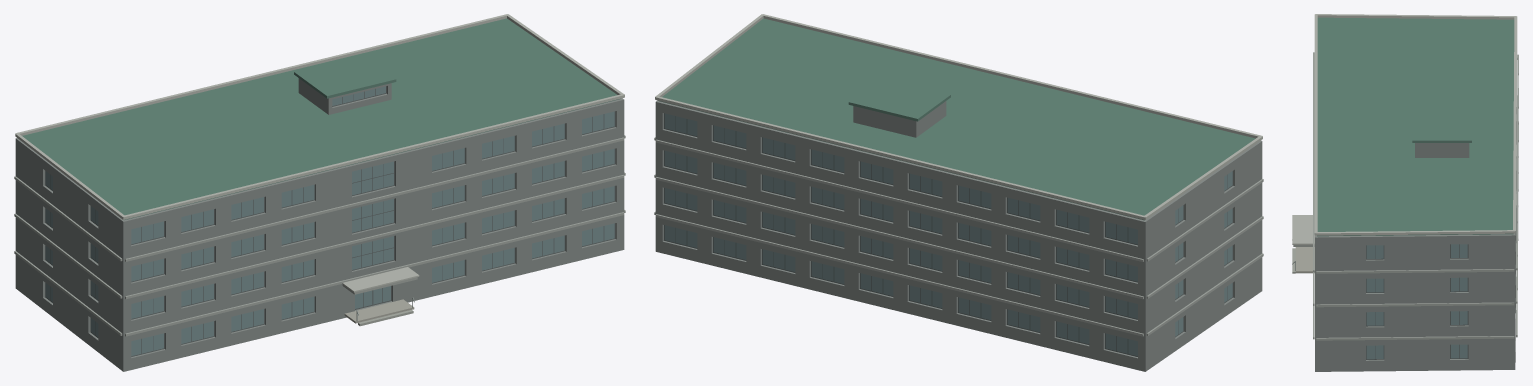
3 views of the same model, side by side, from view 1: azimuth 30°, elevation 25°; view 2: azimuth 150°, elevation 25°; view 3: azimuth 270°, elevation 25° (orthographic). The views are drawn at different scales.
Visible parts, largest first — view 1: annex__wallDark, annex__roof, annex__glass, annex__annexBand, annex__trim, annex__frame, annex__threshold_entry; view 2: annex__wallDark, annex__roof, annex__glass, annex__annexBand, annex__trim, annex__frame; view 3: annex__roof, annex__wallDark, annex__trim, annex__annexBand, annex__glass, annex__frame, annex__threshold_entry.
Part boxes in pixels (left/top/right/bottom): annex__wallDark: left=15, top=78, right=624, bottom=371; annex__roof: left=22, top=18, right=620, bottom=219; annex__glass: left=45, top=86, right=614, bottom=356; annex__annexBand: left=14, top=135, right=625, bottom=336; annex__trim: left=15, top=14, right=624, bottom=292; annex__frame: left=45, top=86, right=615, bottom=356; annex__threshold_entry: left=344, top=299, right=414, bottom=323; annex__wallDark: left=655, top=100, right=1262, bottom=371; annex__roof: left=658, top=18, right=1255, bottom=220; annex__glass: left=664, top=113, right=1232, bottom=356; annex__annexBand: left=654, top=137, right=1263, bottom=336; annex__trim: left=655, top=14, right=1262, bottom=219; annex__frame: left=664, top=113, right=1232, bottom=356; annex__roof: left=1317, top=17, right=1514, bottom=236; annex__wallDark: left=1315, top=109, right=1516, bottom=371; annex__trim: left=1292, top=14, right=1517, bottom=244; annex__annexBand: left=1293, top=52, right=1518, bottom=340; annex__glass: left=1366, top=244, right=1467, bottom=359; annex__frame: left=1366, top=244, right=1468, bottom=359; annex__threshold_entry: left=1295, top=247, right=1314, bottom=273.
Size of the model in its own units: 48.15 by 15.79 by 20.92.
